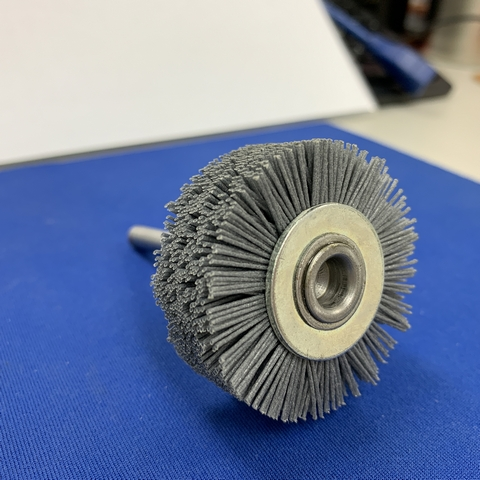Wheel Brush: (112, 124, 410, 433), (113, 137, 420, 415), (156, 140, 413, 418)
